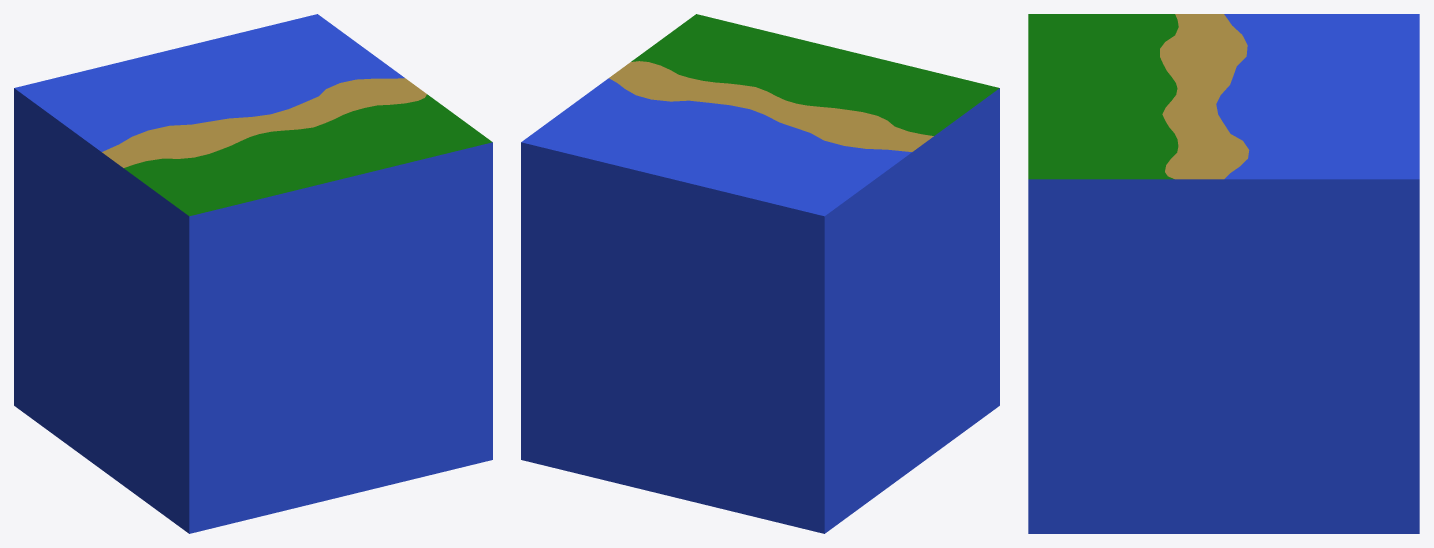
The model's file is CoastSide1.fbx.
3 renders of one model, left to right at view 1: azimuth 30°, elevation 25°; view 2: azimuth 150°, elevation 25°; view 3: azimuth 270°, elevation 25°, orthographic. The views are drawn at different scales.
Parts seen in each view (by area): view 1: Cube.003; view 2: Cube.003; view 3: Cube.003.
Boxes of the visible parts, x1,y1,x2,y2 form: Cube.003: (14,14,492,533); Cube.003: (521,14,999,533); Cube.003: (1028,14,1419,533).
Size of the model in its own units: 100 by 100 by 100.
